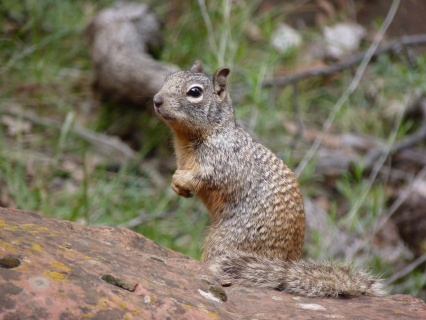Squirrel: (151, 60, 391, 298)
